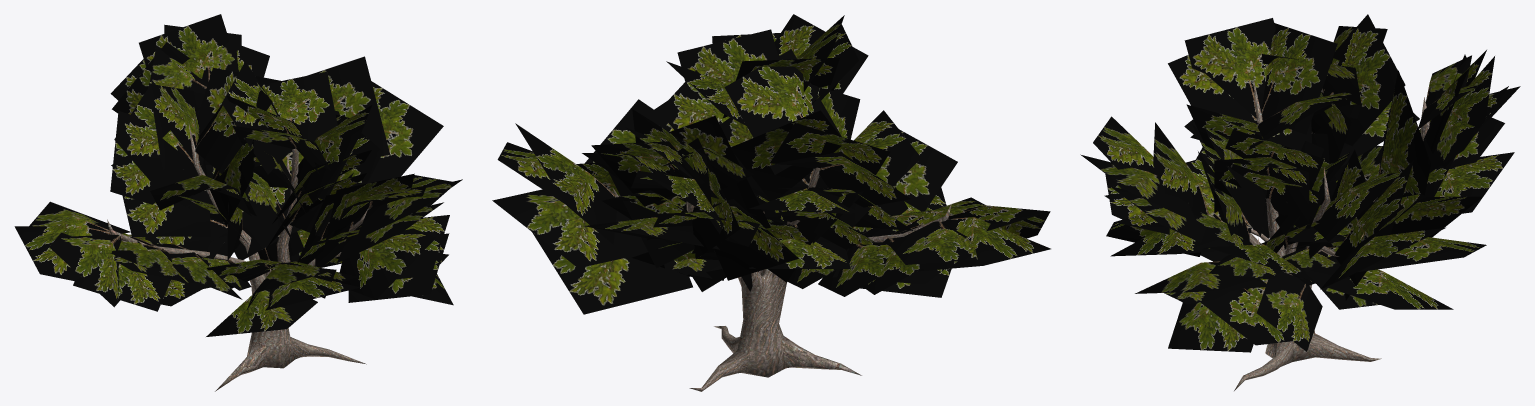
The model's file is oak_tree.dae.
The picture shows the model from 3 angles, left to right: view 1: azimuth 30°, elevation 25°; view 2: azimuth 150°, elevation 25°; view 3: azimuth 270°, elevation 25°; orthographic projection. The views are drawn at different scales.
Parts seen in each view (by area): view 1: Branch, Bark; view 2: Branch, Bark; view 3: Branch, Bark.
Part boxes in pixels (bbox=[...]): Branch: bbox=[14, 14, 462, 336]; Bark: bbox=[107, 78, 366, 391]; Branch: bbox=[492, 14, 1050, 314]; Bark: bbox=[686, 201, 951, 391]; Branch: bbox=[1080, 14, 1520, 352]; Bark: bbox=[1234, 97, 1430, 390].
Bounding box in the file's own units: 10.61 × 8.49 × 6.6.
Materials: 2 (2 with a texture image).
